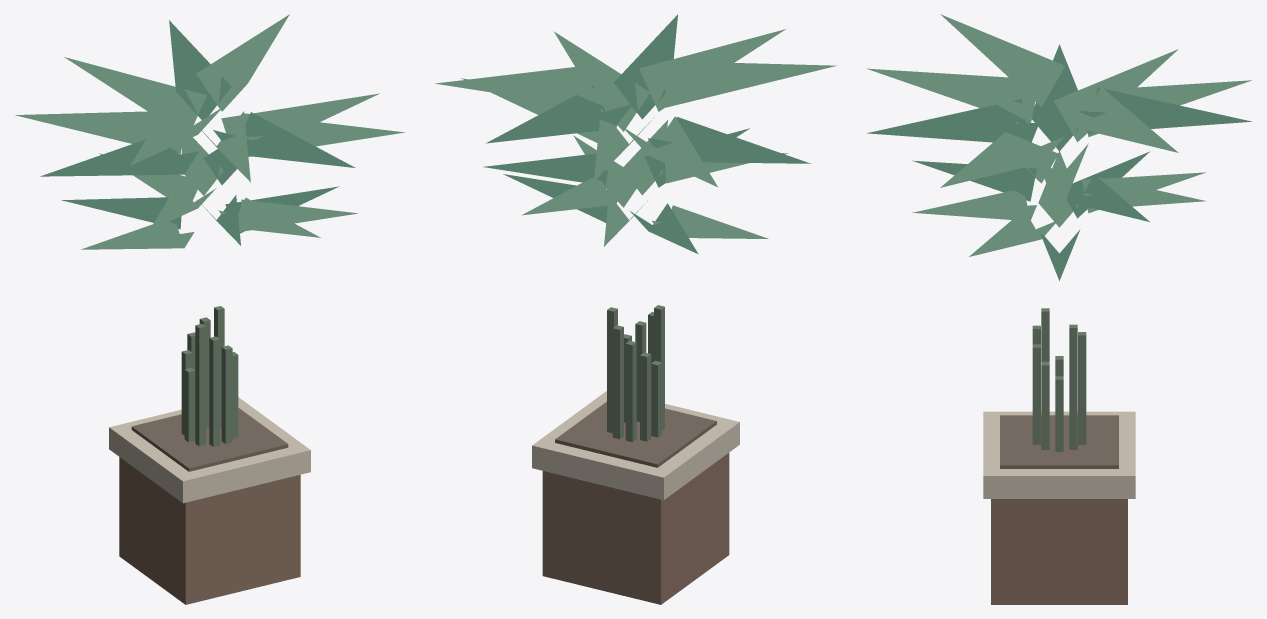
3 renders of one model, left to right at view 1: azimuth 30°, elevation 25°; view 2: azimuth 150°, elevation 25°; view 3: azimuth 270°, elevation 25°, orthographic. The views are drawn at different scales.
Visible parts, largest first — view 1: RG-GAME-02-INDOOR-GREENERY-V16__STANDALONE_PL03__ASSET_1F_le (×2), RG-GAME-02-INDOOR-GREENERY-V16__STANDALONE_PL03__ASSET_1F_wo, RG-GAME-02-INDOOR-GREENERY-V16__STANDALONE_PL03__ASSET_1F_ri, RG-GAME-02-INDOOR-GREENERY-V16__STANDALONE_PL03__ASSET_1F_st, RG-GAME-02-INDOOR-GREENERY-V16__STANDALONE_PL03__ASSET_1F_so; view 2: RG-GAME-02-INDOOR-GREENERY-V16__STANDALONE_PL03__ASSET_1F_le (×2), RG-GAME-02-INDOOR-GREENERY-V16__STANDALONE_PL03__ASSET_1F_wo, RG-GAME-02-INDOOR-GREENERY-V16__STANDALONE_PL03__ASSET_1F_ri, RG-GAME-02-INDOOR-GREENERY-V16__STANDALONE_PL03__ASSET_1F_st, RG-GAME-02-INDOOR-GREENERY-V16__STANDALONE_PL03__ASSET_1F_so; view 3: RG-GAME-02-INDOOR-GREENERY-V16__STANDALONE_PL03__ASSET_1F_le (×2), RG-GAME-02-INDOOR-GREENERY-V16__STANDALONE_PL03__ASSET_1F_wo, RG-GAME-02-INDOOR-GREENERY-V16__STANDALONE_PL03__ASSET_1F_ri, RG-GAME-02-INDOOR-GREENERY-V16__STANDALONE_PL03__ASSET_1F_st, RG-GAME-02-INDOOR-GREENERY-V16__STANDALONE_PL03__ASSET_1F_so.
Part boxes in pixels (box(x1,y1,x2,y2)): RG-GAME-02-INDOOR-GREENERY-V16__STANDALONE_PL03__ASSET_1F_le (×2): box(15, 14, 405, 249); RG-GAME-02-INDOOR-GREENERY-V16__STANDALONE_PL03__ASSET_1F_wo: box(119, 457, 300, 604); RG-GAME-02-INDOOR-GREENERY-V16__STANDALONE_PL03__ASSET_1F_ri: box(109, 397, 310, 503); RG-GAME-02-INDOOR-GREENERY-V16__STANDALONE_PL03__ASSET_1F_st: box(181, 306, 238, 446); RG-GAME-02-INDOOR-GREENERY-V16__STANDALONE_PL03__ASSET_1F_so: box(131, 408, 288, 471); RG-GAME-02-INDOOR-GREENERY-V16__STANDALONE_PL03__ASSET_1F_le (×2): box(435, 14, 836, 254); RG-GAME-02-INDOOR-GREENERY-V16__STANDALONE_PL03__ASSET_1F_wo: box(542, 453, 729, 604); RG-GAME-02-INDOOR-GREENERY-V16__STANDALONE_PL03__ASSET_1F_ri: box(532, 391, 739, 500); RG-GAME-02-INDOOR-GREENERY-V16__STANDALONE_PL03__ASSET_1F_st: box(607, 305, 664, 442); RG-GAME-02-INDOOR-GREENERY-V16__STANDALONE_PL03__ASSET_1F_so: box(555, 401, 716, 467); RG-GAME-02-INDOOR-GREENERY-V16__STANDALONE_PL03__ASSET_1F_le (×2): box(867, 14, 1251, 280); RG-GAME-02-INDOOR-GREENERY-V16__STANDALONE_PL03__ASSET_1F_wo: box(991, 499, 1127, 604); RG-GAME-02-INDOOR-GREENERY-V16__STANDALONE_PL03__ASSET_1F_ri: box(983, 411, 1135, 498); RG-GAME-02-INDOOR-GREENERY-V16__STANDALONE_PL03__ASSET_1F_st: box(1032, 308, 1086, 451); RG-GAME-02-INDOOR-GREENERY-V16__STANDALONE_PL03__ASSET_1F_so: box(1000, 415, 1118, 468).
Bounding box in the file's own units: 1.3 × 1.73 × 1.23.
